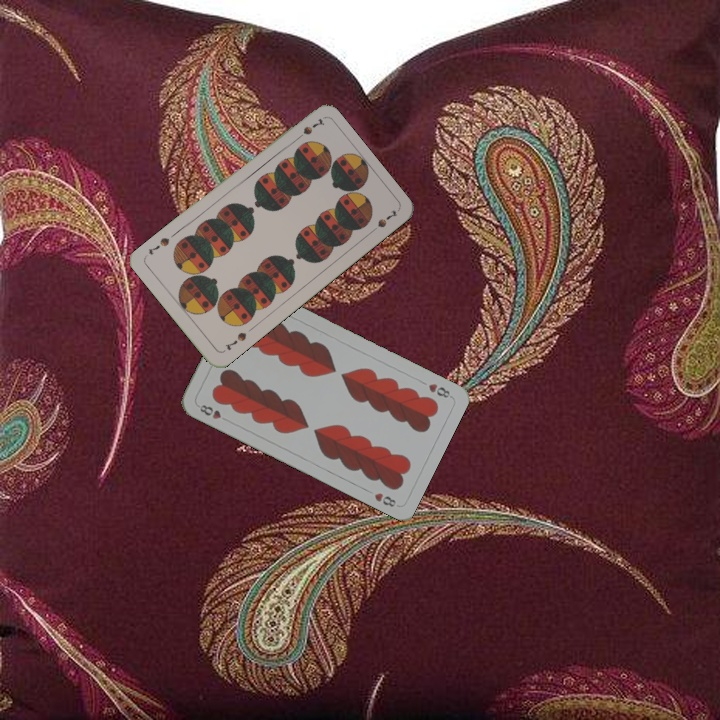H8: (196, 400, 232, 424), (424, 379, 454, 401)
S7: (290, 115, 327, 144), (221, 328, 249, 353)
